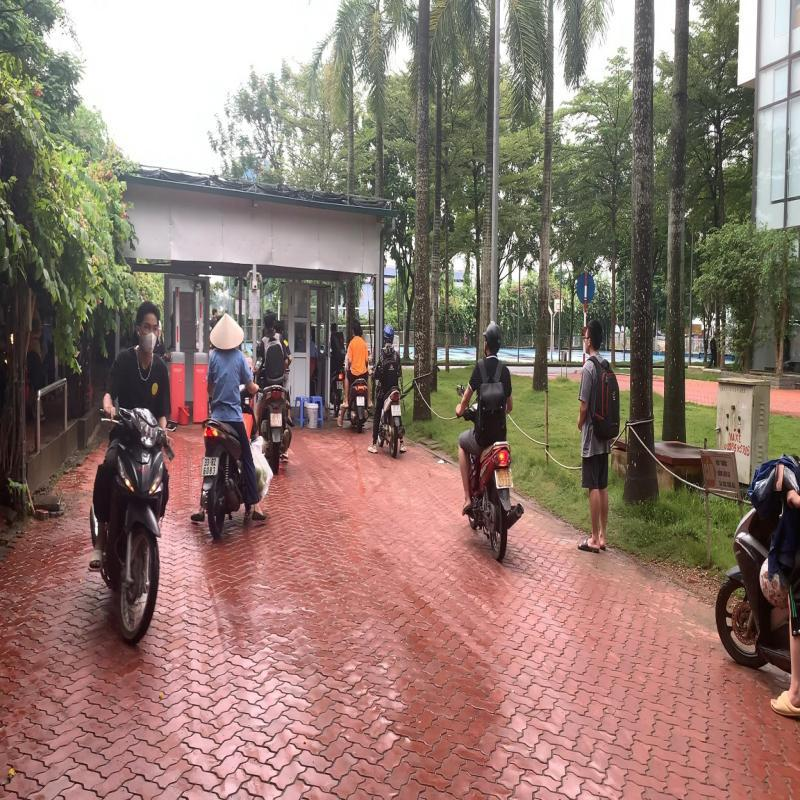nohelmet: (263, 308, 275, 328), (352, 319, 361, 335)
